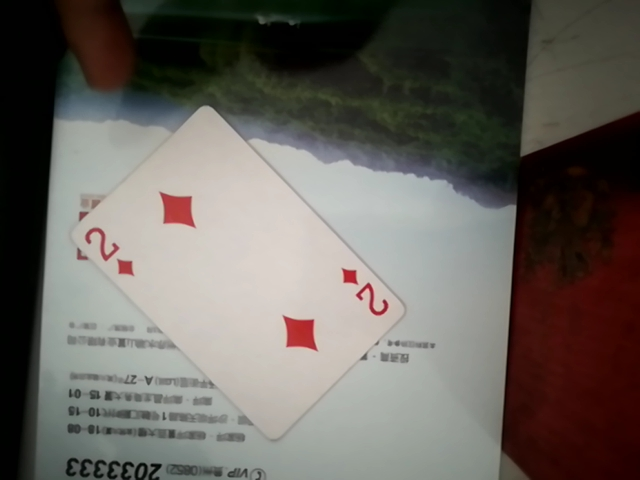fk 2: (54, 100, 418, 419)
